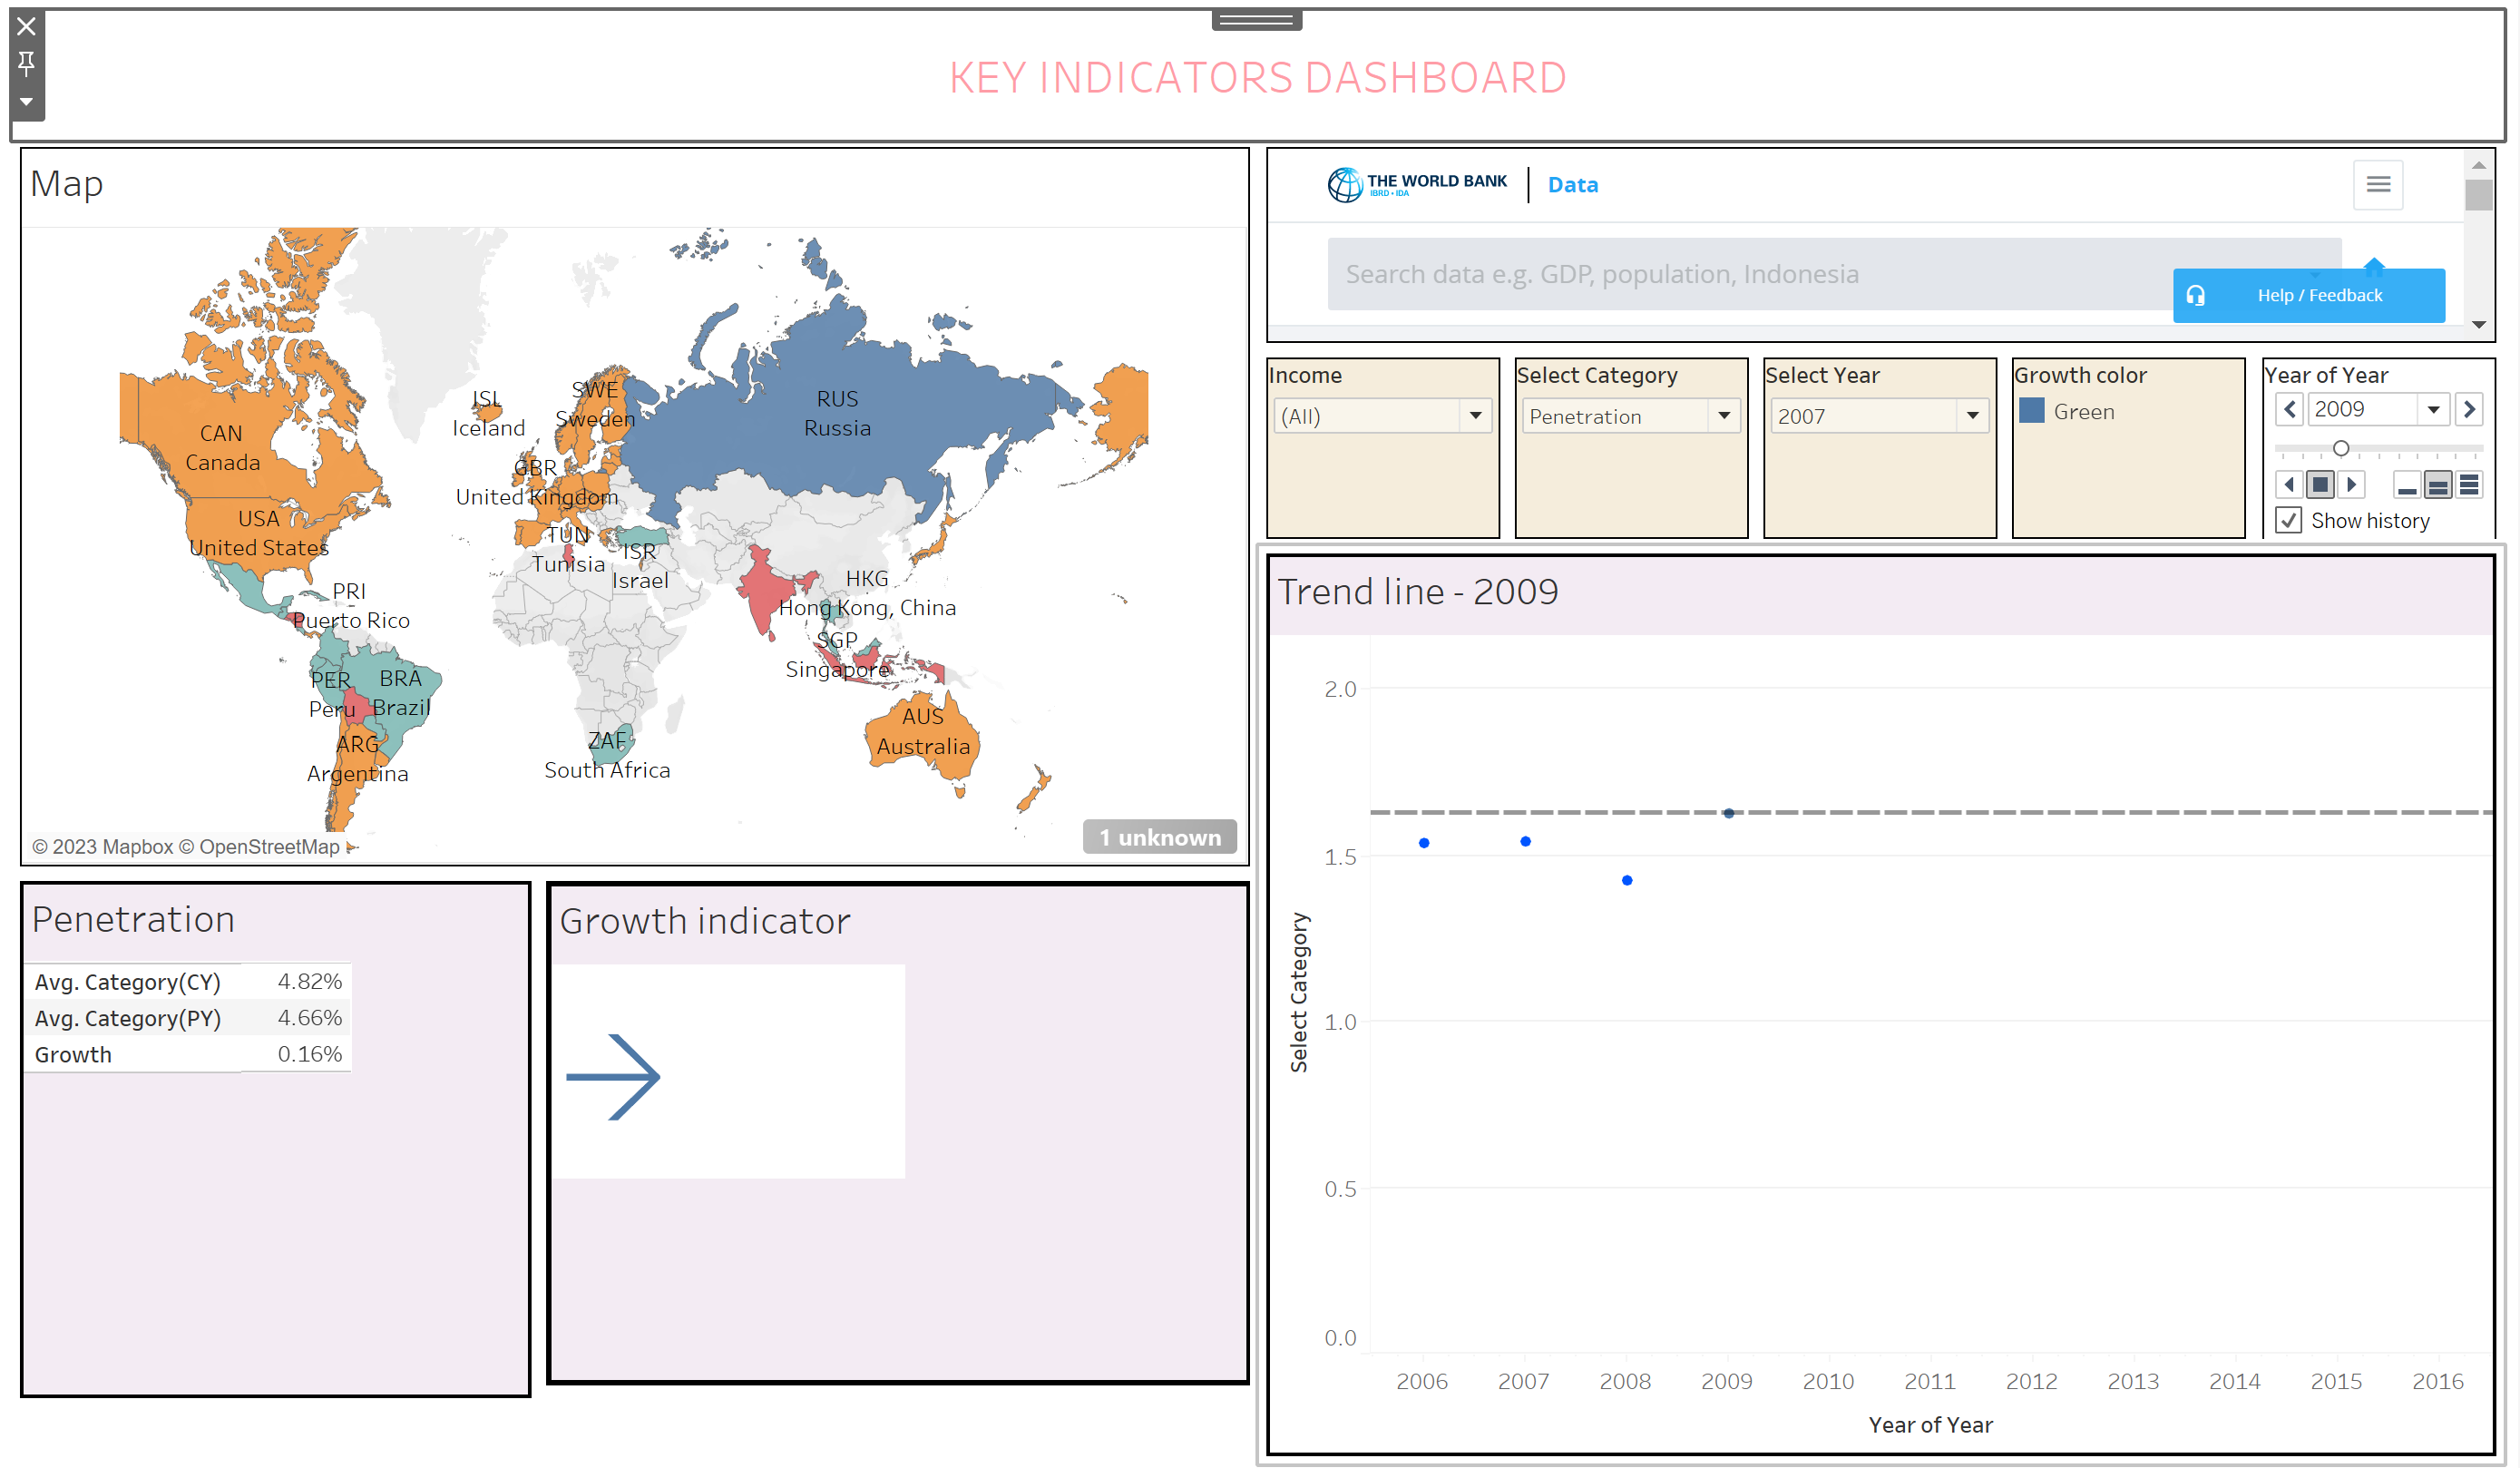

The dashboard page shown, as its layout file describes it:
{"tool":"tableau","page":{"name":"key indicators dashboard","canvas":[1000,1000],"units":"permille","ordinal":0},"visuals":[{"type":"text","box":[5.8,9.8,988.5,87]},{"type":"worksheet","title":"Map","mark":"Multipolygon","box":[5.8,96.8,494.2,495.1]},{"type":"web page","param":"https://data.worldbank.org/countryAustralia","box":[500,96.8,494.2,142.2]},{"type":"filter","title":"Map","param":"[federated.0dodqfi1xm0bsc11njzyu00bccbw].[none:income:nk]","box":[500,238.9,98.8,132.4]},{"type":"parameter","param":"[Parameters].[Parameter 1]","box":[598.8,238.9,98.8,132.4]},{"type":"parameter","param":"[Parameters].[Parameter 2]","box":[697.7,238.9,98.8,132.4]},{"type":"legend","title":"Growth indicator","param":"[federated.01gf05l0y3ewdg1gzkgam0ynbpng].[usr:Calculation_192528949121777674:nk]","box":[796.5,238.9,98.8,132.4]},{"type":"currpage","title":"Trend line","box":[895.4,238.9,98.9,132.4]},{"type":"worksheet","title":"Trend line","mark":"Line","rows":["Calculation_192528948775731204"],"cols":["Year"],"box":[500,371.3,494.2,618.9]},{"type":"worksheet","title":"KPI table","mark":"Automatic","box":[5.8,591.9,208.8,359.1]},{"type":"worksheet","title":"Growth indicator","mark":"Automatic","box":[214.5,591.9,285.5,350.5]}]}

Visuals, with their boxes on the dashboard's canvas, which has no fixed pixel size, in thousandths of its width and height (x1, y1, x2, y2). These are canvas units, not pixel positions in the 2520x1468 screenshot, which may show the page scaled, cropped or inside an application window:
text: [x1=6, y1=10, x2=994, y2=97]
"Map" worksheet (Multipolygon marks): [x1=6, y1=97, x2=500, y2=592]
web page: [x1=500, y1=97, x2=994, y2=239]
"Map" filter: [x1=500, y1=239, x2=599, y2=371]
parameter: [x1=599, y1=239, x2=698, y2=371]
parameter: [x1=698, y1=239, x2=796, y2=371]
"Growth indicator" legend: [x1=796, y1=239, x2=895, y2=371]
"Trend line" currpage: [x1=895, y1=239, x2=994, y2=371]
"Trend line" worksheet (Line marks): [x1=500, y1=371, x2=994, y2=990]
"KPI table" worksheet: [x1=6, y1=592, x2=215, y2=951]
"Growth indicator" worksheet: [x1=214, y1=592, x2=500, y2=942]
